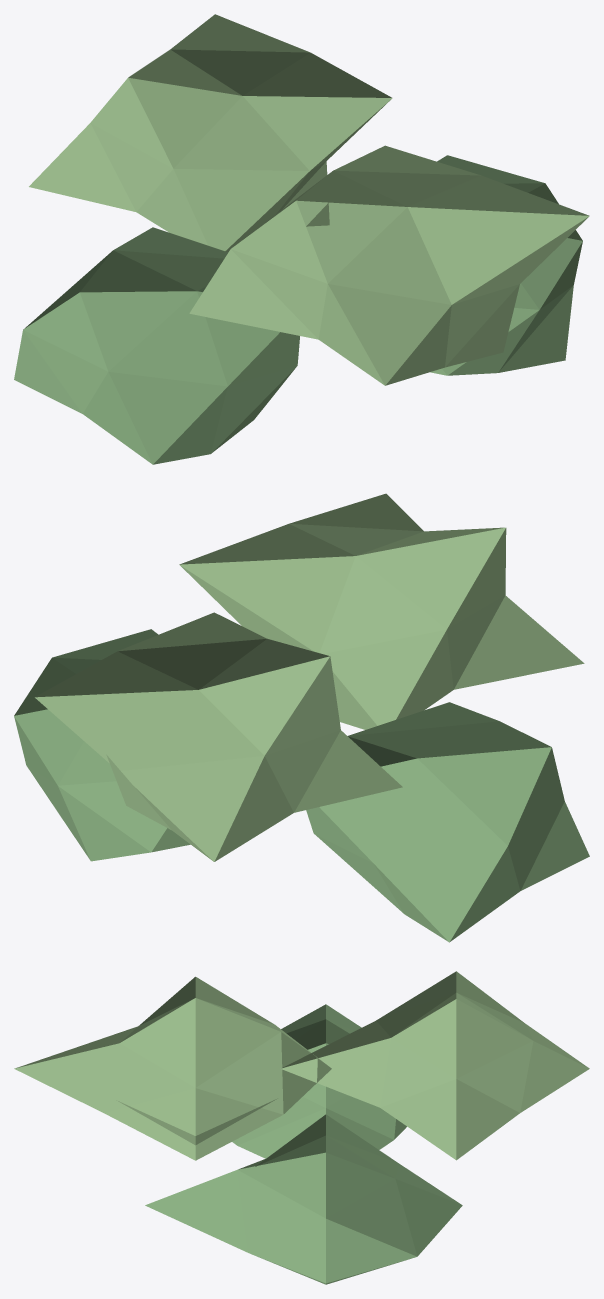
The model's file is shrub_v26.glb.
3 renders of one model, top to bottom at view 1: azimuth 30°, elevation 25°; view 2: azimuth 150°, elevation 25°; view 3: azimuth 270°, elevation 25°, orthographic. The views are drawn at different scales.
Visible parts, largest first — view 1: lod0; view 2: lod0; view 3: lod0.
Boxes of the visible parts, <box> form: lod0: <box>14,14,589,464</box>; lod0: <box>14,493,589,942</box>; lod0: <box>14,971,589,1284</box>.
Size of what is drawn, in the model's own units: 1.12 by 0.6632 by 1.28.
